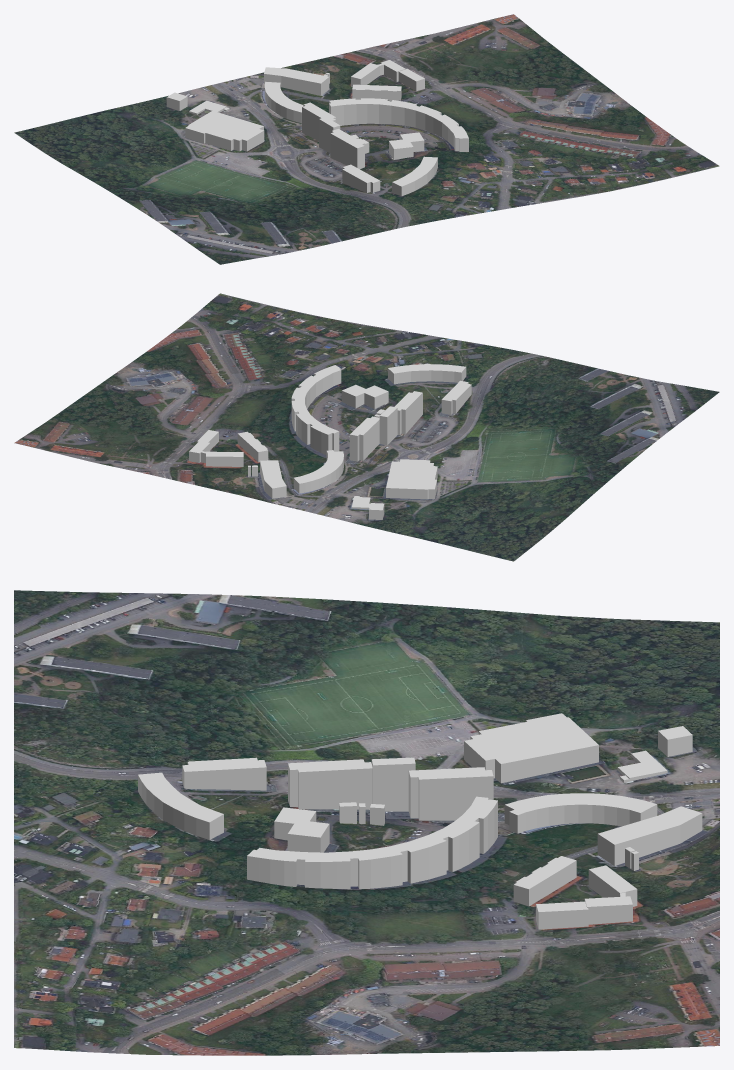
File: elevatedMossens.fbx
3 renders of one model, top to bottom at view 1: azimuth 30°, elevation 25°; view 2: azimuth 150°, elevation 25°; view 3: azimuth 270°, elevation 25°, orthographic. The views are drawn at different scales.
Visible parts, largest first — view 1: EXPORT_GOOGLE_SAT_WM, 29562739, Fysiken, 694016222, 116260354, 116260358, 29562855, 29562017, 116353001, 83752240, 29561916, 849182323 (+2 smaller); view 2: EXPORT_GOOGLE_SAT_WM, 29562739, Fysiken, 116260358, 29562855, 29561916, 29562017, 116260354, 694016222, 116353001, 849182323, 83752170 (+1 smaller); view 3: EXPORT_GOOGLE_SAT_WM, 29562739, Fysiken, 29562855, 116260354, 29561916, 694016222, 116260358, 116353001, 29562017, 849182323, 83752240 (+5 smaller).
Part boxes in pixels (<box>): EXPORT_GOOGLE_SAT_WM: <box>14,14,719,264</box>; 29562739: <box>329,98,468,151</box>; Fysiken: <box>185,111,264,151</box>; 694016222: <box>264,67,329,95</box>; 116260354: <box>330,129,364,169</box>; 116260358: <box>392,156,437,196</box>; 29562855: <box>264,81,303,123</box>; 29562017: <box>389,132,424,159</box>; 116353001: <box>342,164,380,192</box>; 83752240: <box>352,84,401,100</box>; 29561916: <box>302,102,335,141</box>; 849182323: <box>319,117,340,152</box>; EXPORT_GOOGLE_SAT_WM: <box>14,293,719,561</box>; 29562739: <box>291,365,341,455</box>; Fysiken: <box>386,459,437,499</box>; 116260358: <box>388,364,466,384</box>; 29562855: <box>293,450,343,493</box>; 29561916: <box>349,416,379,461</box>; 29562017: <box>341,384,388,409</box>; 116260354: <box>394,391,422,435</box>; 694016222: <box>260,460,286,498</box>; 116353001: <box>441,380,471,414</box>; 849182323: <box>379,406,397,445</box>; 83752170: <box>206,451,243,466</box>; EXPORT_GOOGLE_SAT_WM: <box>14,590,719,1055</box>; 29562739: <box>247,796,497,889</box>; Fysiken: <box>464,713,598,783</box>; 29562855: <box>504,793,657,833</box>; 116260354: <box>288,759,372,809</box>; 29561916: <box>408,767,493,820</box>; 694016222: <box>597,806,702,865</box>; 116260358: <box>138,772,223,840</box>; 116353001: <box>182,757,266,790</box>; 29562017: <box>274,807,329,852</box>; 849182323: <box>371,757,415,811</box>; 83752240: <box>513,856,576,906</box>.
Bounding box in the file's own units: 107012 × 7324 × 76437.
